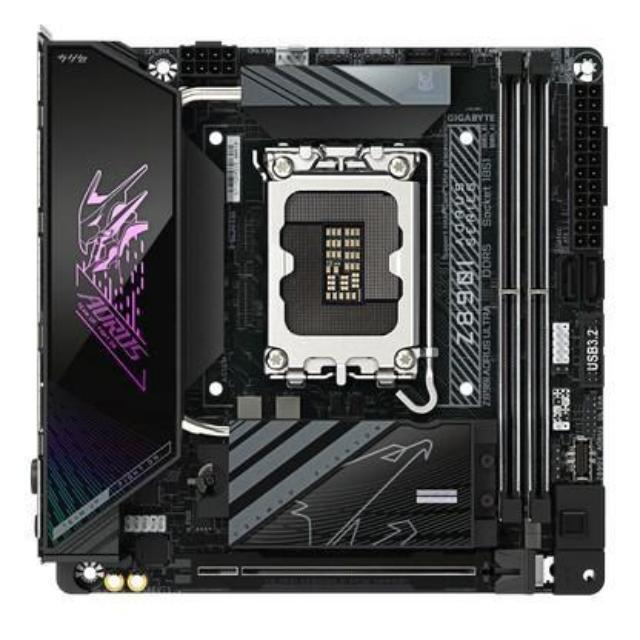Mainboard: (28, 17, 617, 600)
